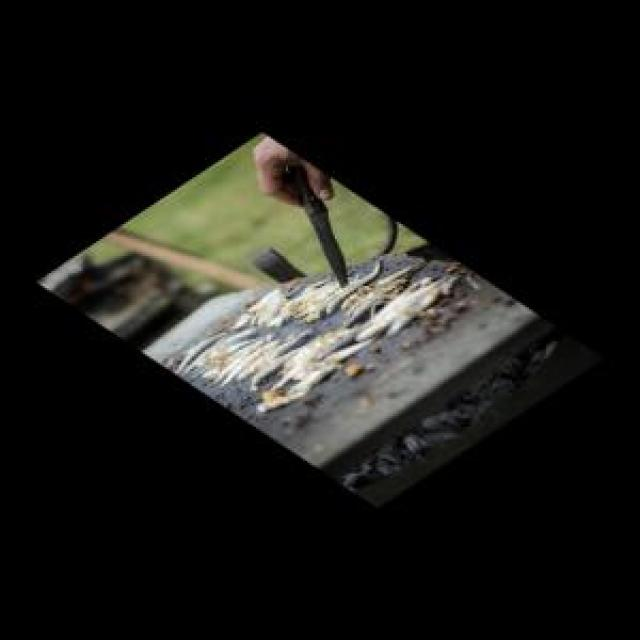knife: (294, 173, 348, 291)
